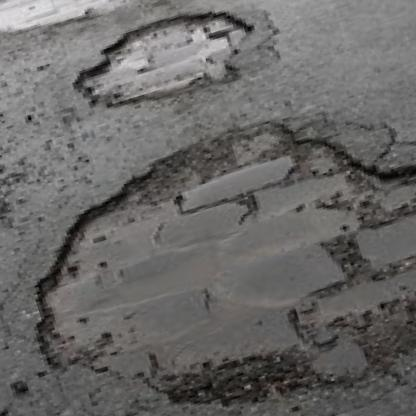pothole: (0, 70, 416, 416), (62, 0, 265, 129), (0, 0, 244, 61)
